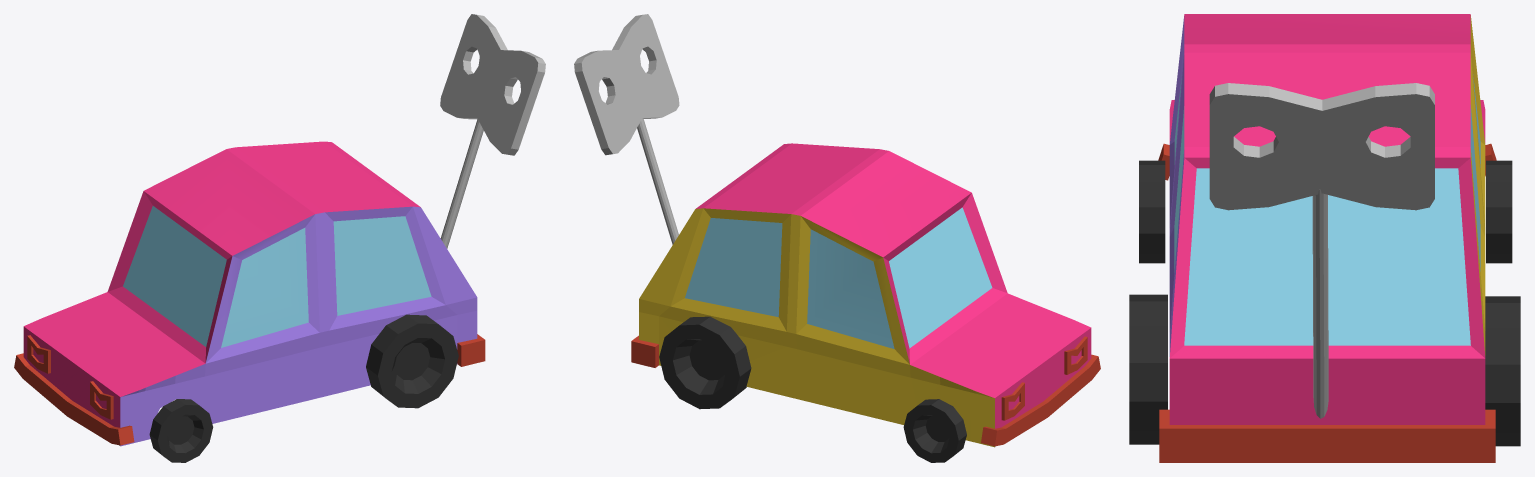
Rendered from CocheBomba.fbx.
3 views of the same model, side by side, from view 1: azimuth 30°, elevation 25°; view 2: azimuth 150°, elevation 25°; view 3: azimuth 270°, elevation 25° (orthographic). The views are drawn at different scales.
Parts seen in each view (by area): view 1: COCHE, Cilindro.006, Cilindro.002, Cilindro.003; view 2: COCHE, Cilindro.006, Cilindro.004, Cilindro.005; view 3: COCHE, Cilindro.006, Cilindro.002, Cilindro.004, Cilindro.003, Cilindro.005.
Part boxes in pixels (left/top/right/bottom): COCHE: left=14, top=141, right=485, bottom=446; Cilindro.006: left=440, top=14, right=545, bottom=248; Cilindro.002: left=366, top=314, right=458, bottom=408; Cilindro.003: left=149, top=399, right=213, bottom=462; COCHE: left=631, top=143, right=1100, bottom=447; Cilindro.006: left=574, top=14, right=679, bottom=244; Cilindro.004: left=659, top=316, right=751, bottom=409; Cilindro.005: left=903, top=399, right=966, bottom=462; COCHE: left=1158, top=14, right=1496, bottom=462; Cilindro.006: left=1209, top=83, right=1434, bottom=418; Cilindro.002: left=1129, top=294, right=1167, bottom=444; Cilindro.004: left=1485, top=296, right=1520, bottom=446; Cilindro.003: left=1139, top=160, right=1165, bottom=263; Cilindro.005: left=1486, top=160, right=1512, bottom=263.
Size of the model in its own units: 339 by 214 by 161.
